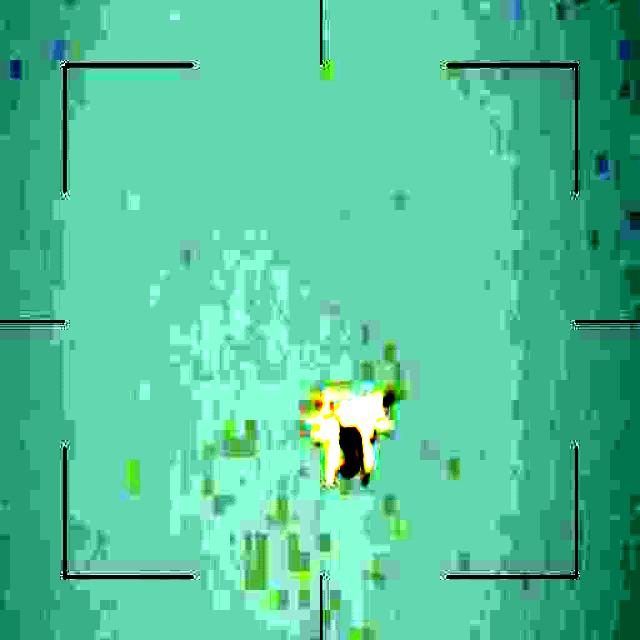bird: (299, 385, 395, 488)
